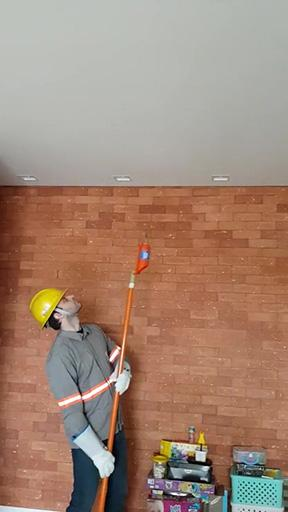Detector_Tensao_Contato: (133, 230, 153, 276)
Vara_Manobra: (98, 275, 137, 512)
